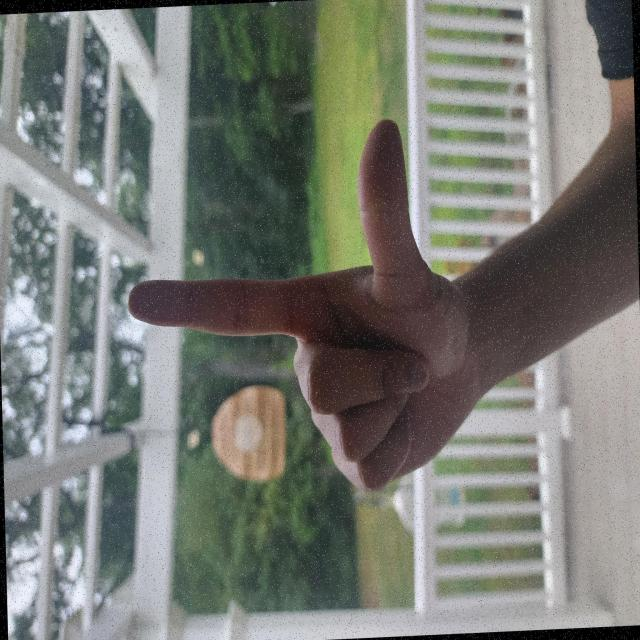L: (100, 164, 399, 640)
